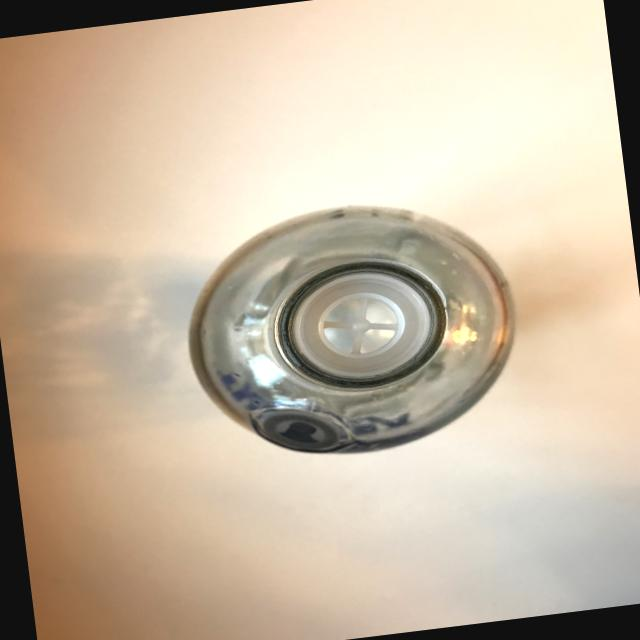Glass: (160, 178, 540, 487)
